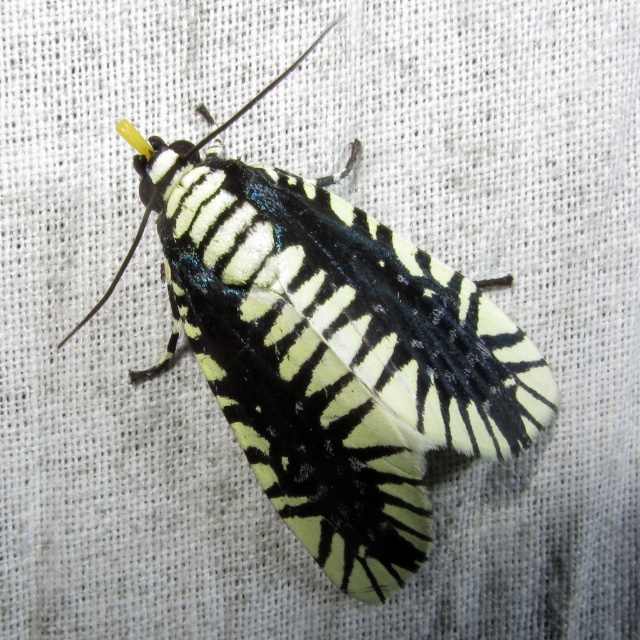Butterfly: (54, 35, 565, 606)
